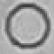no answer: (4, 3, 51, 49)
